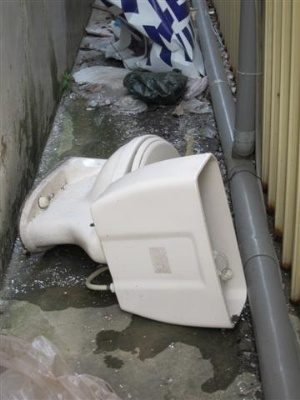plastic_bag: (100, 1, 206, 76), (71, 62, 212, 117), (122, 64, 188, 107)
toilet: (19, 132, 254, 331)
